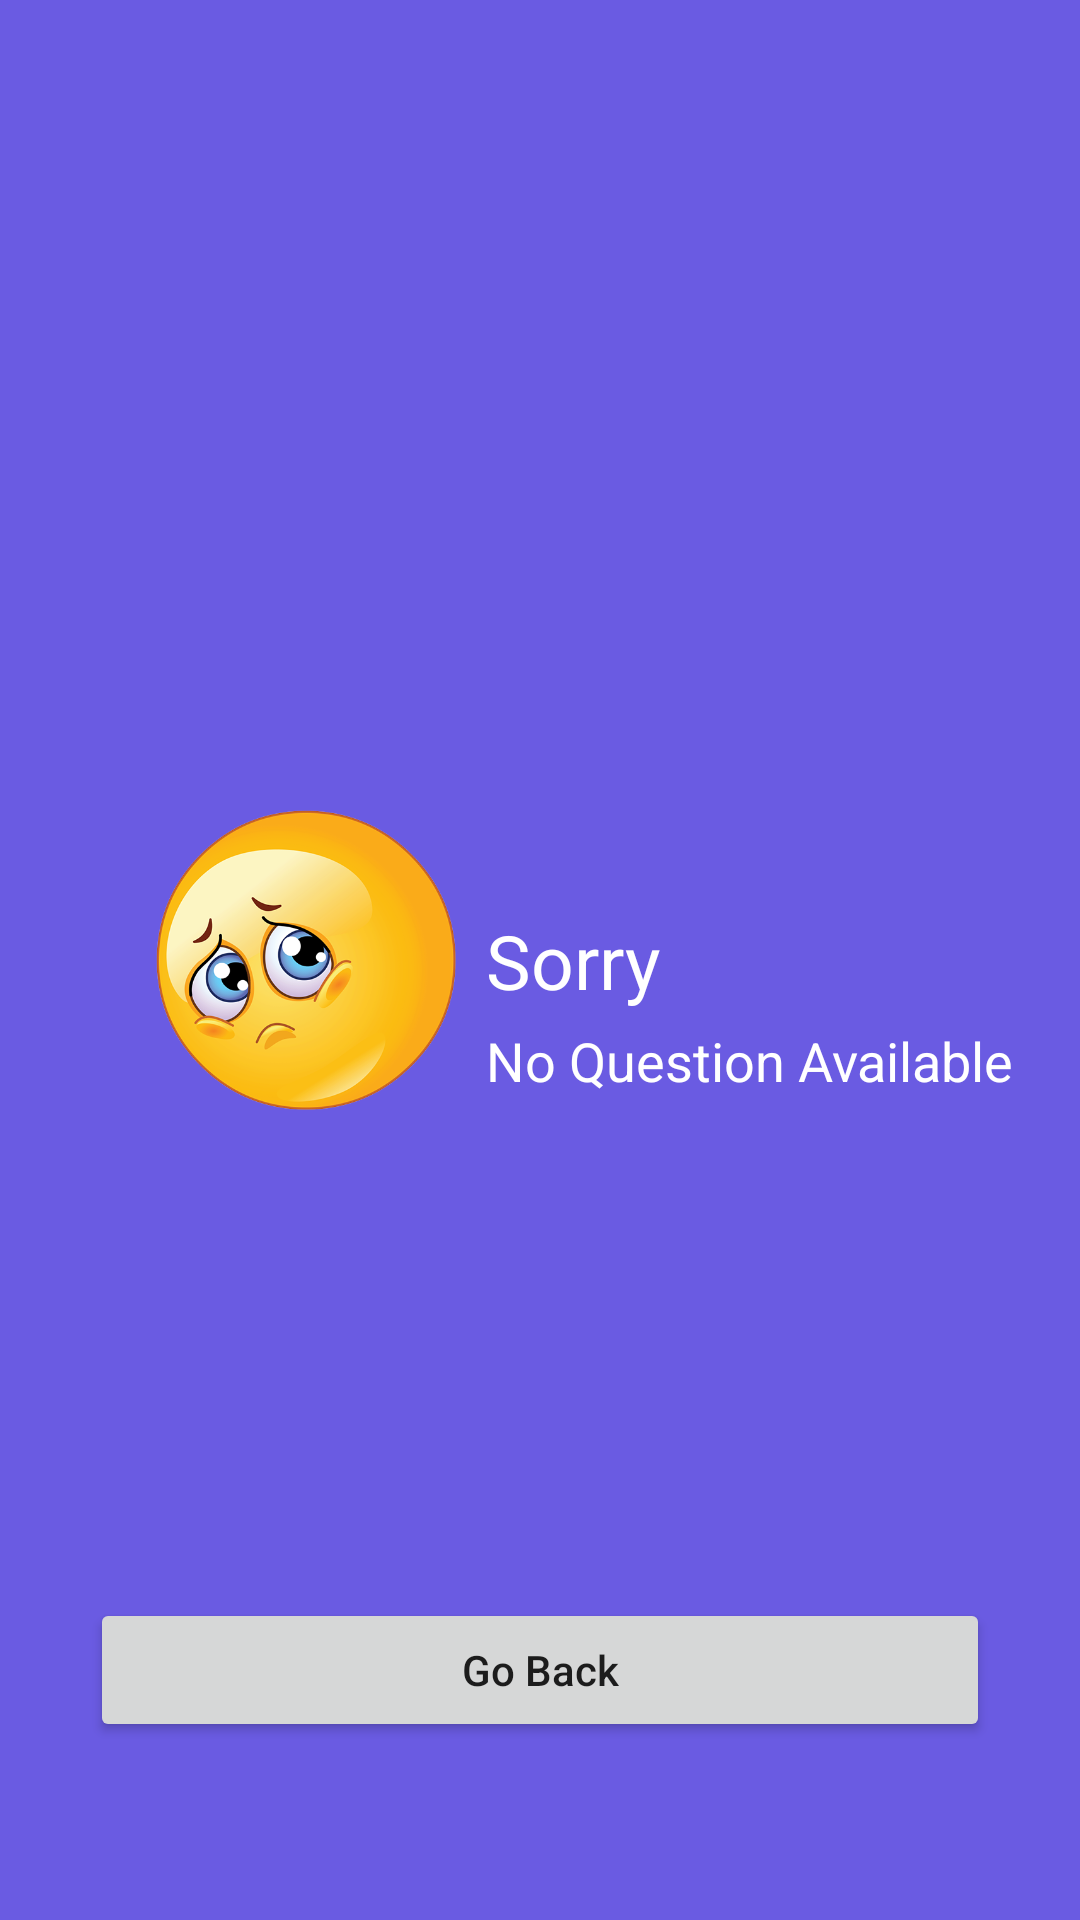

Named icons in this screenshot (1080 × 1920) and their centers, point (x, y):
sad: point (306, 960)
